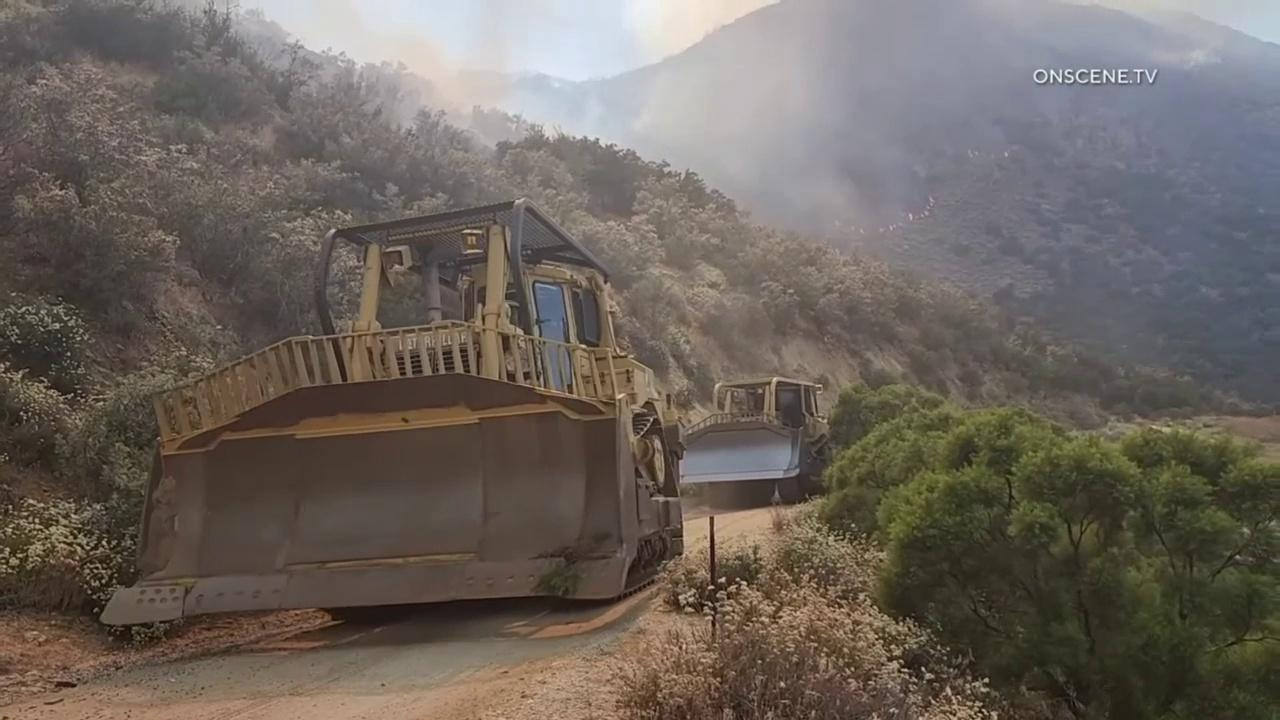fire: (921, 193, 937, 219), (966, 148, 979, 160), (888, 223, 897, 233), (906, 211, 913, 223), (1003, 151, 1010, 160), (878, 227, 884, 234), (859, 228, 865, 234)
smoke: (127, 0, 1280, 266)
